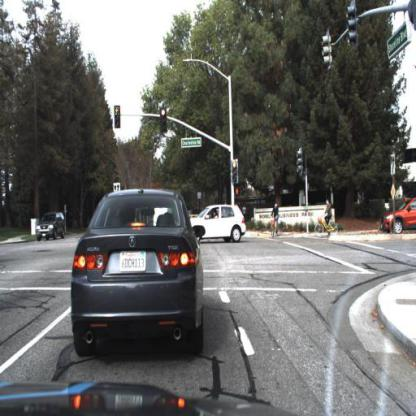biker: (314, 197, 341, 239), (268, 202, 283, 240)
car: (71, 186, 206, 357), (183, 203, 248, 247), (379, 199, 416, 235), (35, 211, 68, 240)
trafficLight-Red: (232, 159, 239, 182), (161, 108, 167, 133)
trafficLight-RedLeft: (114, 104, 122, 127)
